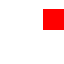square: (43, 9, 63, 29)
